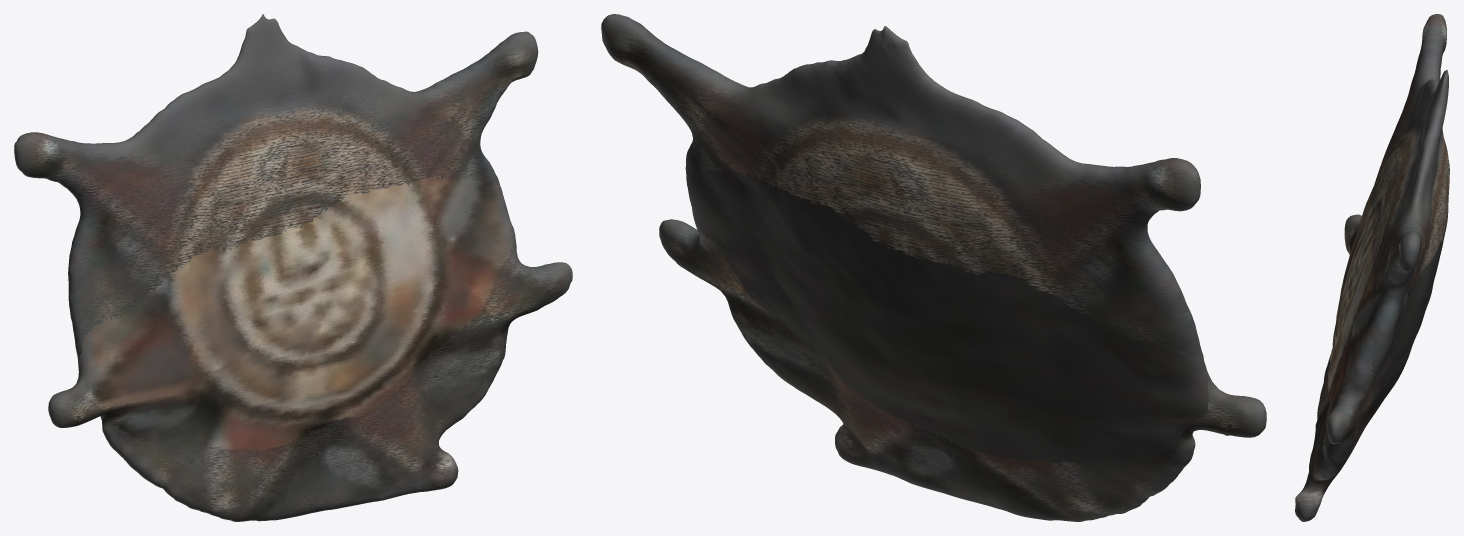
File: kfl-2272.glb
3 renders of one model, left to right at view 1: azimuth 30°, elevation 25°; view 2: azimuth 150°, elevation 25°; view 3: azimuth 270°, elevation 25°, orthographic. The views are drawn at different scales.
Parts seen in each view (by area): view 1: geometry_0; view 2: geometry_0; view 3: geometry_0.
Part boxes in pixels (x1,y1,x2,y2): geometry_0: [14, 14, 572, 521]; geometry_0: [601, 14, 1266, 521]; geometry_0: [1295, 14, 1449, 521].
Size of the model in its own units: 0.9897 by 0.8107 by 0.2803.
Materials: 1 (1 with a texture image).
